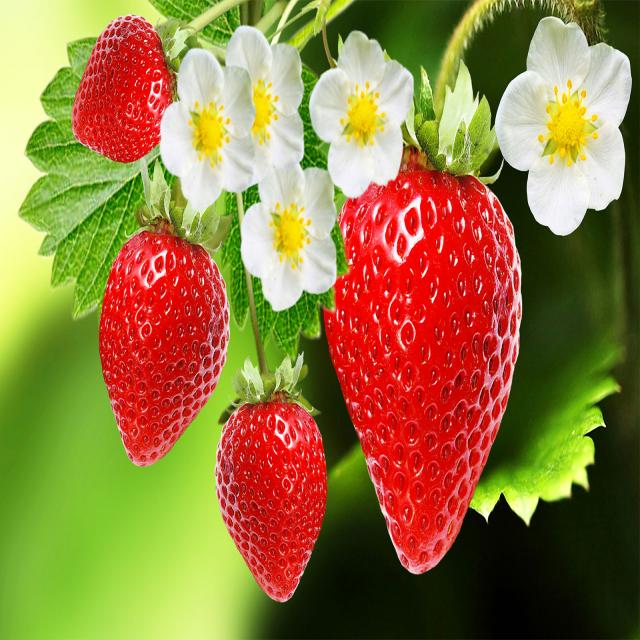strawberry: (316, 114, 529, 586), (90, 187, 236, 473), (222, 354, 326, 602), (72, 9, 176, 167)
